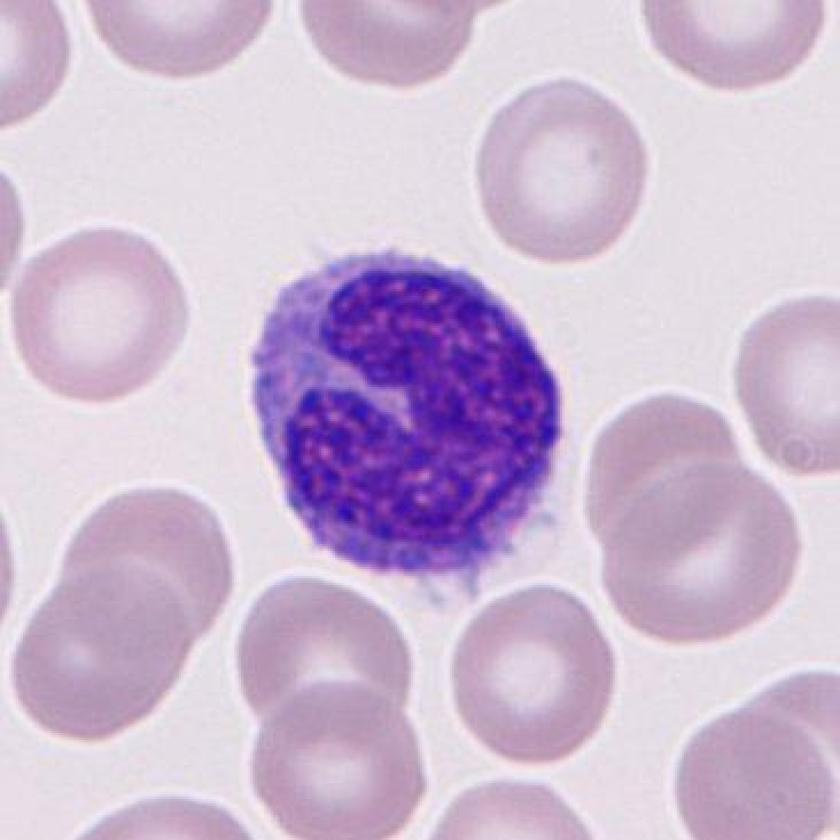monocyte: (226, 224, 588, 607)
